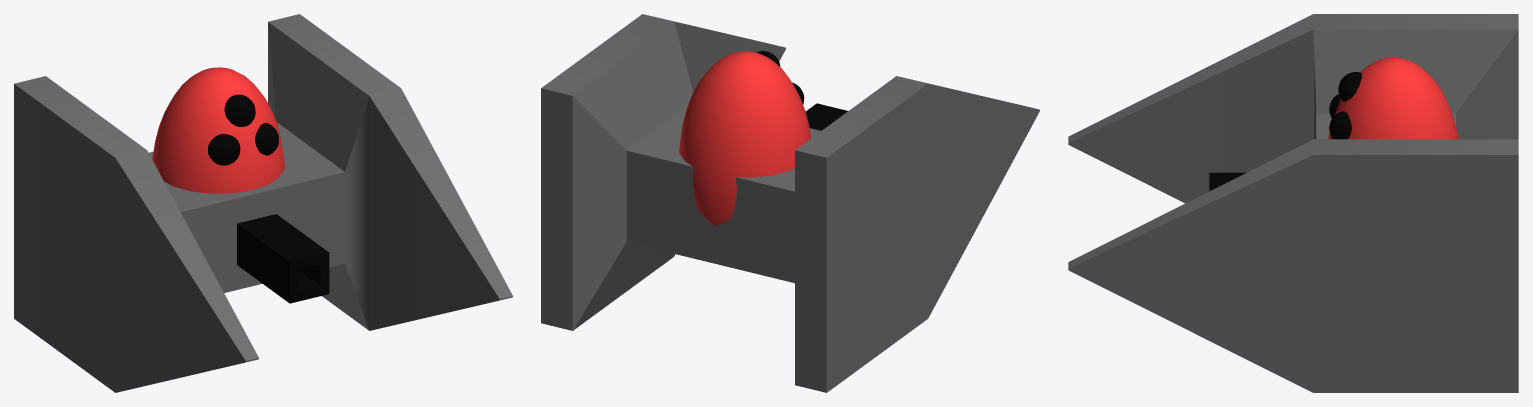
File: Alien3.fbx
3 renders of one model, left to right at view 1: azimuth 30°, elevation 25°; view 2: azimuth 150°, elevation 25°; view 3: azimuth 270°, elevation 25°, orthographic.
Visible parts, largest first — view 1: pCube3; view 2: pCube3; view 3: pCube3.
Boxes of the visible parts, box(x1,y1,x2,y2) form: pCube3: box(14, 14, 512, 392); pCube3: box(541, 14, 1039, 392); pCube3: box(1068, 14, 1518, 392).
Size of the model in its own units: 3.27 by 2.82 by 4.4.
